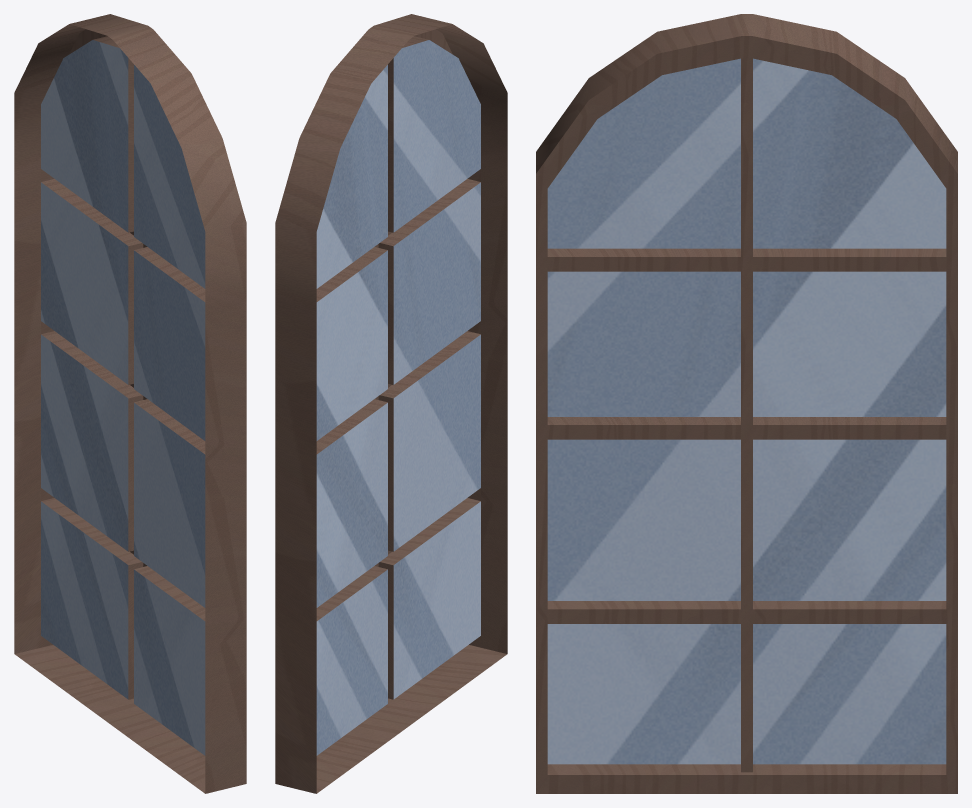
Rendered from Window.fbx.
3 renders of one model, left to right at view 1: azimuth 30°, elevation 25°; view 2: azimuth 150°, elevation 25°; view 3: azimuth 270°, elevation 25°, orthographic. The views are drawn at different scales.
Parts seen in each view (by area): view 1: Cube; view 2: Cube; view 3: Cube.
Part boxes in pixels (bbox=[...]): Cube: bbox=[14, 14, 246, 793]; Cube: bbox=[275, 14, 507, 793]; Cube: bbox=[536, 14, 957, 793].
Size of the model in its own units: 45.08 by 720 by 363.
